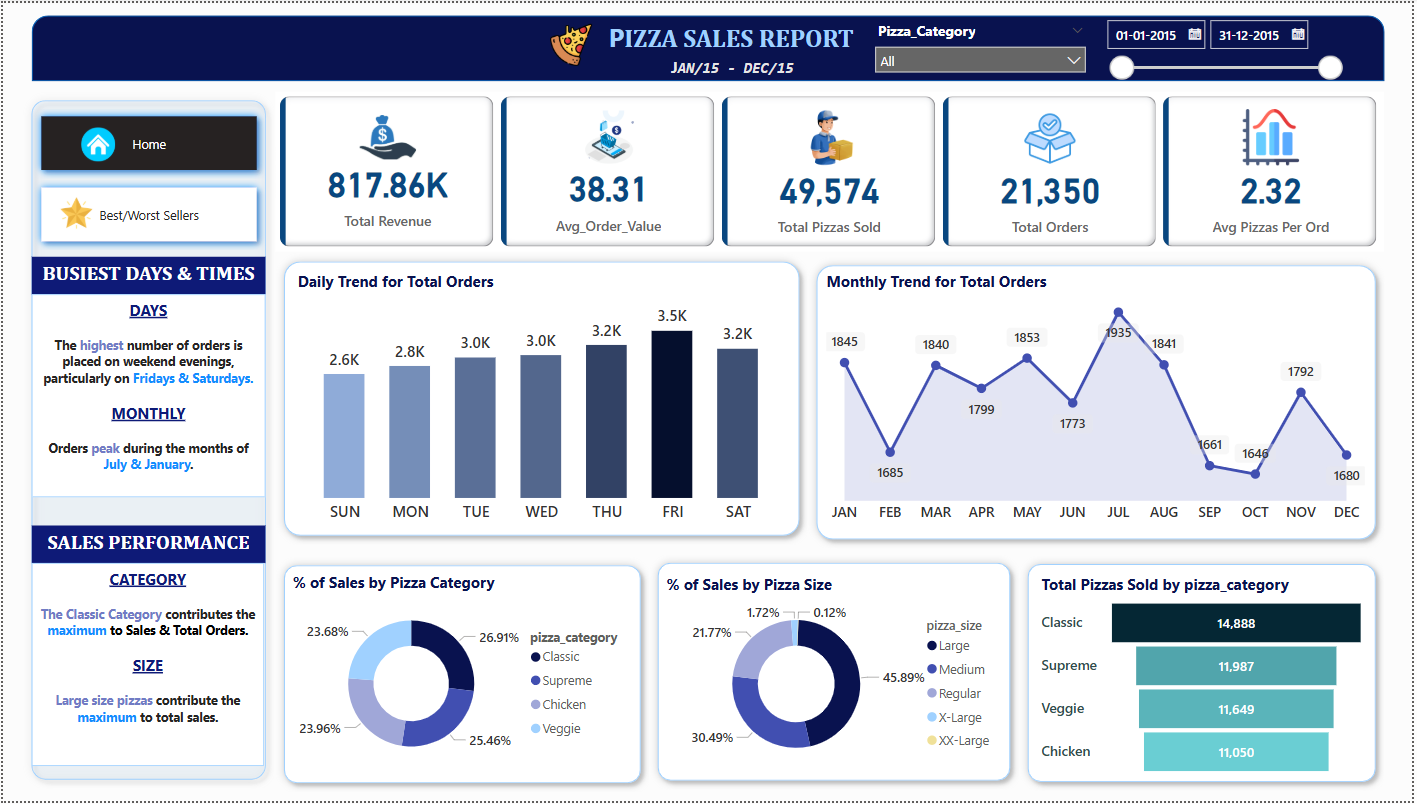

The dashboard page shown, as its layout file describes it:
{"tool":"powerbi","page":{"name":"Home","canvas":[1500,850],"ordinal":0},"visuals":[{"type":"shape","box":[21.2,95,267.5,741.2],"z":0},{"type":"cardVisual","fields":{"Data":["pizza_sales.Total Revenue","pizza_sales.Avg_Order_Value","pizza_sales.Total Pizzas Sold","pizza_sales.Total Orders","pizza_sales.Avg Pizzas Per Ord"]},"box":[290,95,1180,170],"z":1000},{"type":"shape","box":[30,12.9,1440,70],"z":2000},{"type":"textbox","box":[607.1,12.9,337.1,58.6],"z":3000},{"type":"textbox","box":[671.4,51.4,208.6,31.4],"z":4000},{"type":"image","box":[572.9,17.1,62.9,54.3],"z":5000},{"type":"shape","box":[290,266.7,566.7,310],"z":6000},{"type":"columnChart","title":"Daily Trend for Total Orders","fields":{"Category":["pizza_sales.Order_Day"],"Y":["pizza_sales.Total Orders"]},"box":[308.3,285,530,278.3],"z":7000},{"type":"shape","box":[856.7,270,613.3,310],"z":8000},{"type":"areaChart","title":"Monthly Trend for Total Orders","fields":{"Category":["pizza_sales.Order_Month"],"Y":["pizza_sales.Total Orders"]},"box":[871.7,285,583.3,278.3],"z":9000},{"type":"shape","box":[688.3,586.7,393.3,250],"z":10000},{"type":"shape","box":[290,588.9,397.8,250],"z":11000},{"type":"shape","box":[1081.7,588.3,388.3,250],"z":12000},{"type":"donutChart","title":"% of Sales by Pizza Category","fields":{"Category":["pizza_sales.pizza_category"],"Y":["pizza_sales.Total Revenue"]},"box":[303.3,605,371.7,216.7],"z":13000},{"type":"donutChart","title":"% of Sales by Pizza Size","fields":{"Y":["pizza_sales.Total Revenue"],"Category":["pizza_sales.pizza_size"]},"box":[701.7,606.7,366.7,215],"z":14000},{"type":"funnel","fields":{"Category":["pizza_sales.pizza_category"],"Y":["pizza_sales.Total Pizzas Sold"]},"box":[1100,606.7,355,220],"z":15000},{"type":"textbox","box":[30,270,248.8,40],"z":16000},{"type":"textbox","box":[30,310,248.8,216.2],"z":17000},{"type":"textbox","box":[30,556.2,248.8,40],"z":18000},{"type":"textbox","box":[31.2,596.2,247.5,216.2],"z":19000},{"type":"slicer","fields":{"Values":["pizza_sales.pizza_category"]},"box":[918.6,14.3,244.3,68.6],"z":20000},{"type":"slicer","fields":{"Values":["pizza_sales.order_date"]},"box":[1162.9,8.6,271.4,117.1],"z":21000},{"type":"pageNavigator","box":[31.4,187.1,247.1,75],"z":22000},{"type":"pageNavigator","box":[31.4,111.4,247.1,75.7],"z":23000},{"type":"image","box":[78.6,127.1,45.7,45.7],"z":24000},{"type":"image","box":[54.3,200,47.1,47.1],"z":25000}]}

Visuals, with their boxes in screenshot pixels (x1, y1, x2, y2), scaled from the page's 1500x850 canvas onto the 1417x804 screenshot:
shape: [left=20, top=90, right=273, bottom=791]
cardVisual - pizza_sales.Total Revenue x pizza_sales.Avg_Order_Value: [left=274, top=90, right=1389, bottom=251]
shape: [left=28, top=12, right=1389, bottom=78]
textbox: [left=574, top=12, right=892, bottom=68]
textbox: [left=634, top=49, right=831, bottom=78]
image: [left=541, top=16, right=601, bottom=68]
shape: [left=274, top=252, right=809, bottom=545]
"Daily Trend for Total Orders" columnChart: [left=291, top=270, right=792, bottom=533]
shape: [left=809, top=255, right=1389, bottom=549]
"Monthly Trend for Total Orders" areaChart: [left=823, top=270, right=1374, bottom=533]
shape: [left=650, top=555, right=1022, bottom=791]
shape: [left=274, top=557, right=650, bottom=794]
shape: [left=1022, top=556, right=1389, bottom=793]
"% of Sales by Pizza Category" donutChart: [left=287, top=572, right=638, bottom=777]
"% of Sales by Pizza Size" donutChart: [left=663, top=574, right=1009, bottom=777]
funnel - pizza_sales.pizza_category x pizza_sales.Total Pizzas Sold: [left=1039, top=574, right=1374, bottom=782]
textbox: [left=28, top=255, right=263, bottom=293]
textbox: [left=28, top=293, right=263, bottom=498]
textbox: [left=28, top=526, right=263, bottom=564]
textbox: [left=29, top=564, right=263, bottom=768]
slicer - pizza_sales.pizza_category: [left=868, top=14, right=1099, bottom=78]
slicer - pizza_sales.order_date: [left=1099, top=8, right=1355, bottom=119]
pageNavigator: [left=30, top=177, right=263, bottom=248]
pageNavigator: [left=30, top=105, right=263, bottom=177]
image: [left=74, top=120, right=117, bottom=163]
image: [left=51, top=189, right=96, bottom=234]
